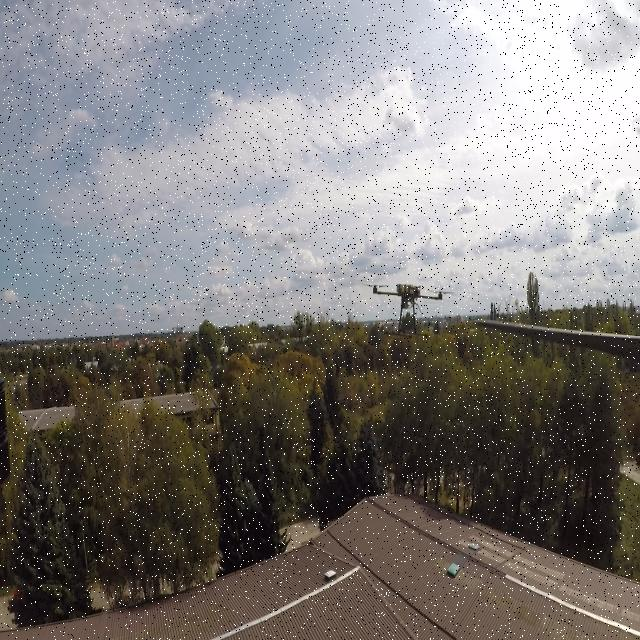UAV: (362, 282, 456, 338)
